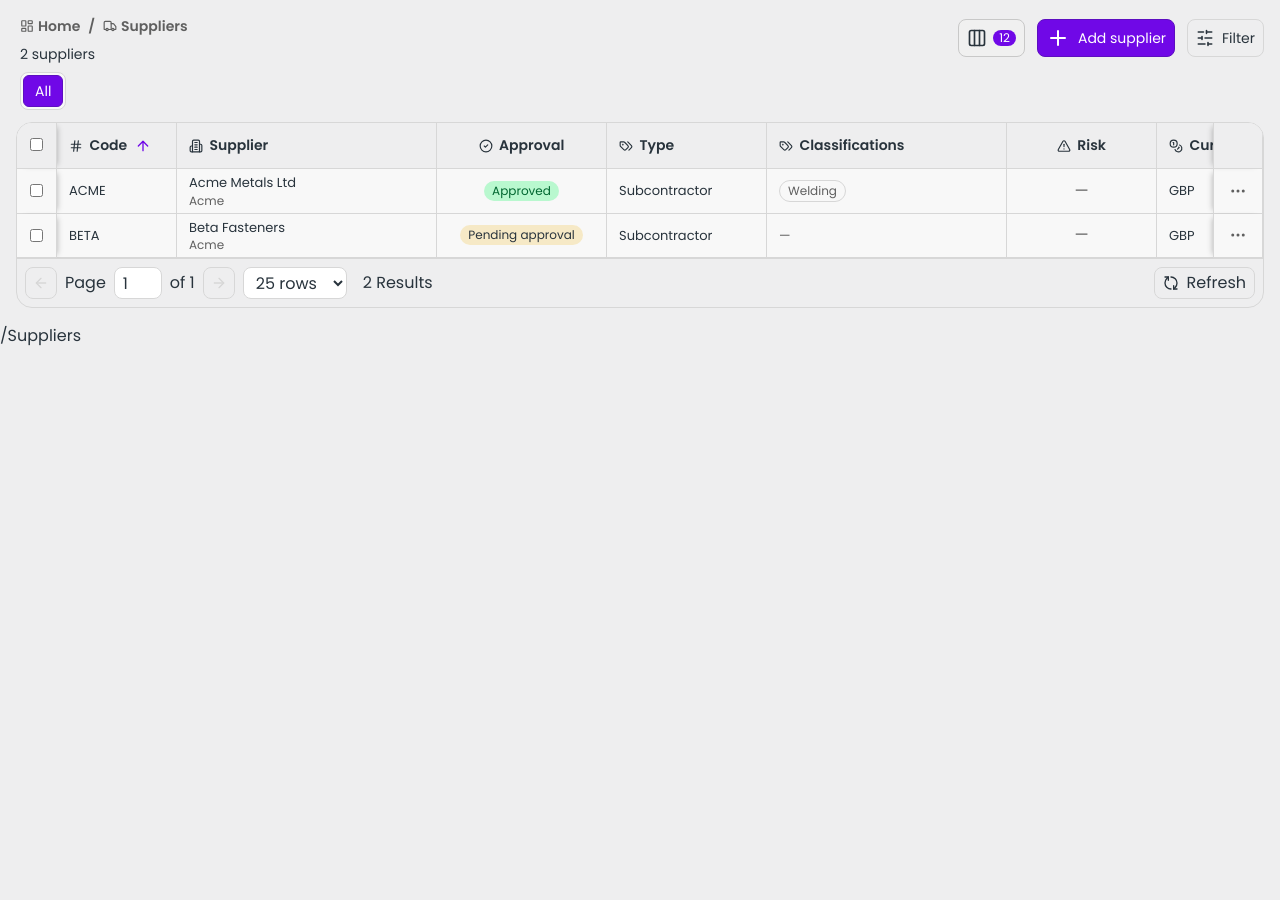
Test: supplier register › filters from the drawer, shows chips and clears them
Check: the element named "Suppliers" is shown, box [17,123,1263,258]
Click the button "Filter".
click(1226, 38)  # box [1187,19,1264,57]
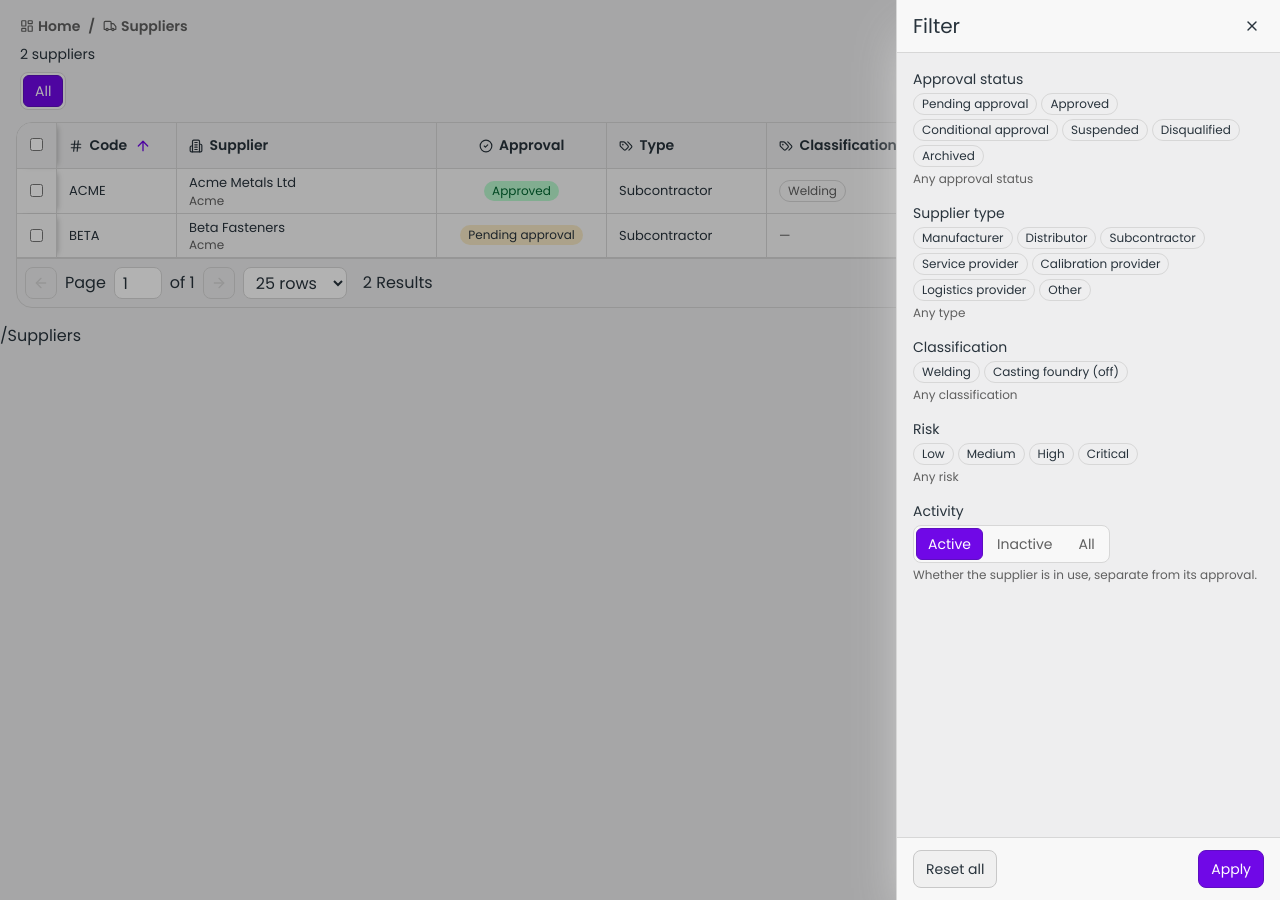
Click the 1st checkbox labelled "Approved".
click(1080, 104)  # box [1041,93,1118,115]
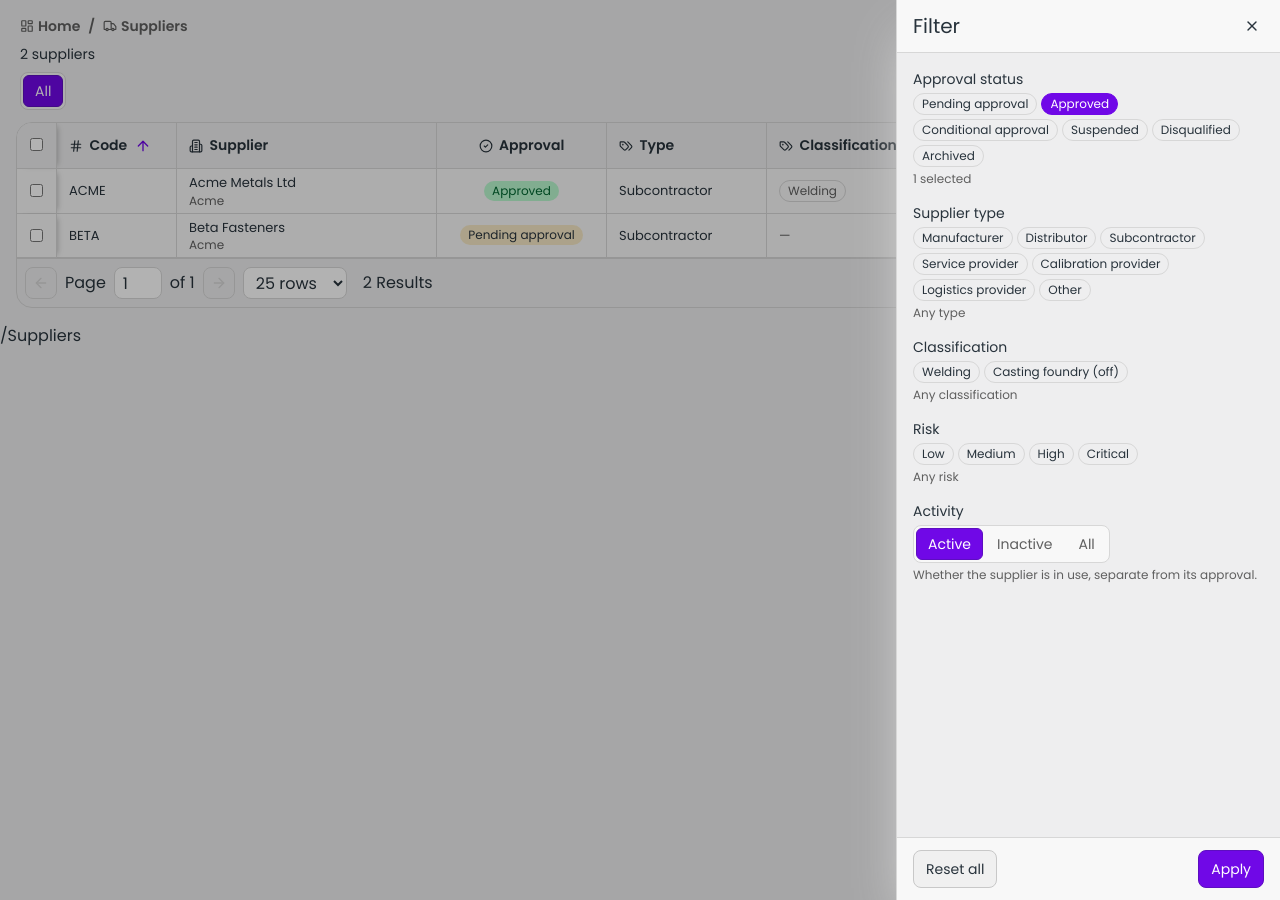
Click the 4th checkbox labelled "Welding".
click(946, 372)  # box [913,361,980,383]
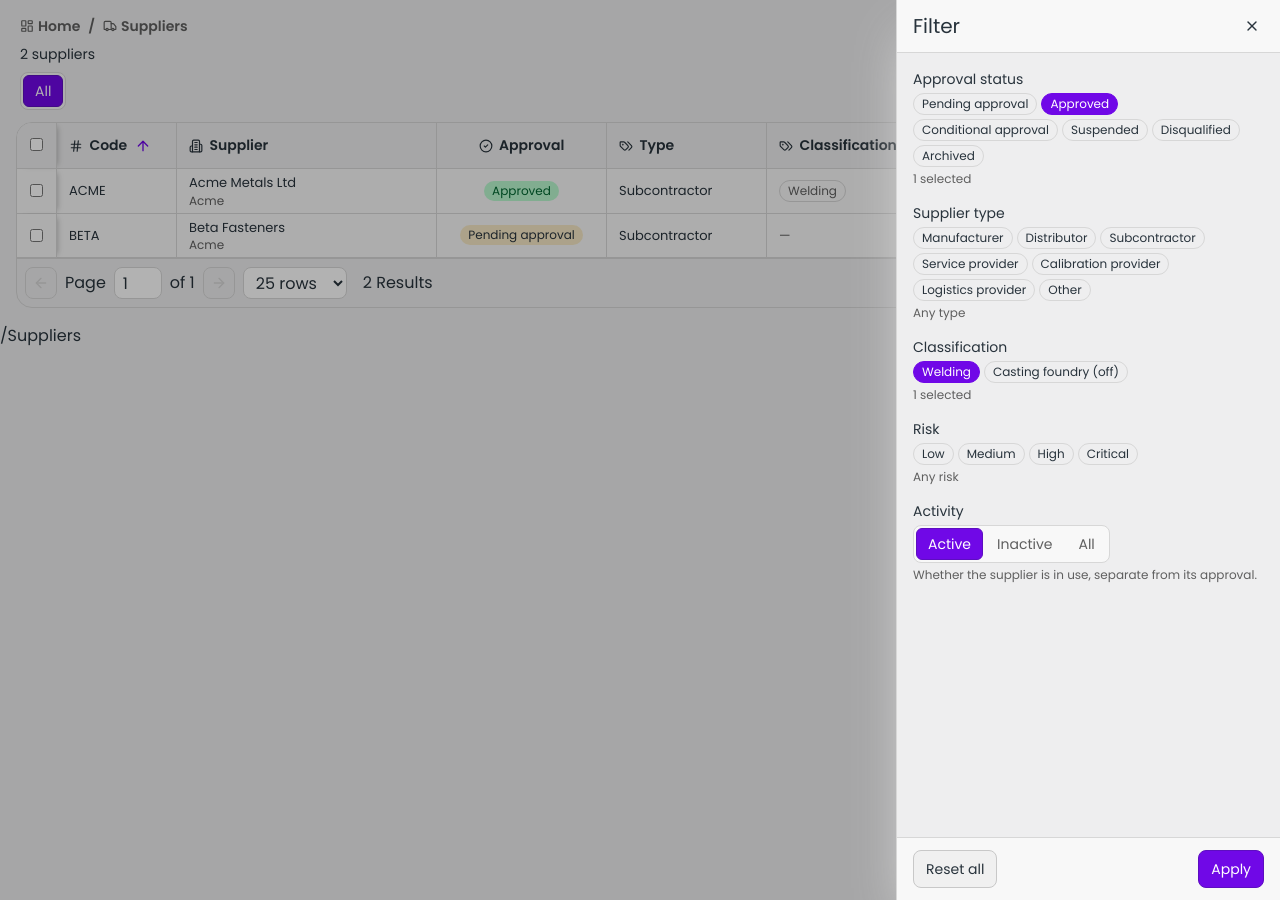
Click the radio button labelled "All".
click(1087, 544)  # box [1066,528,1107,560]
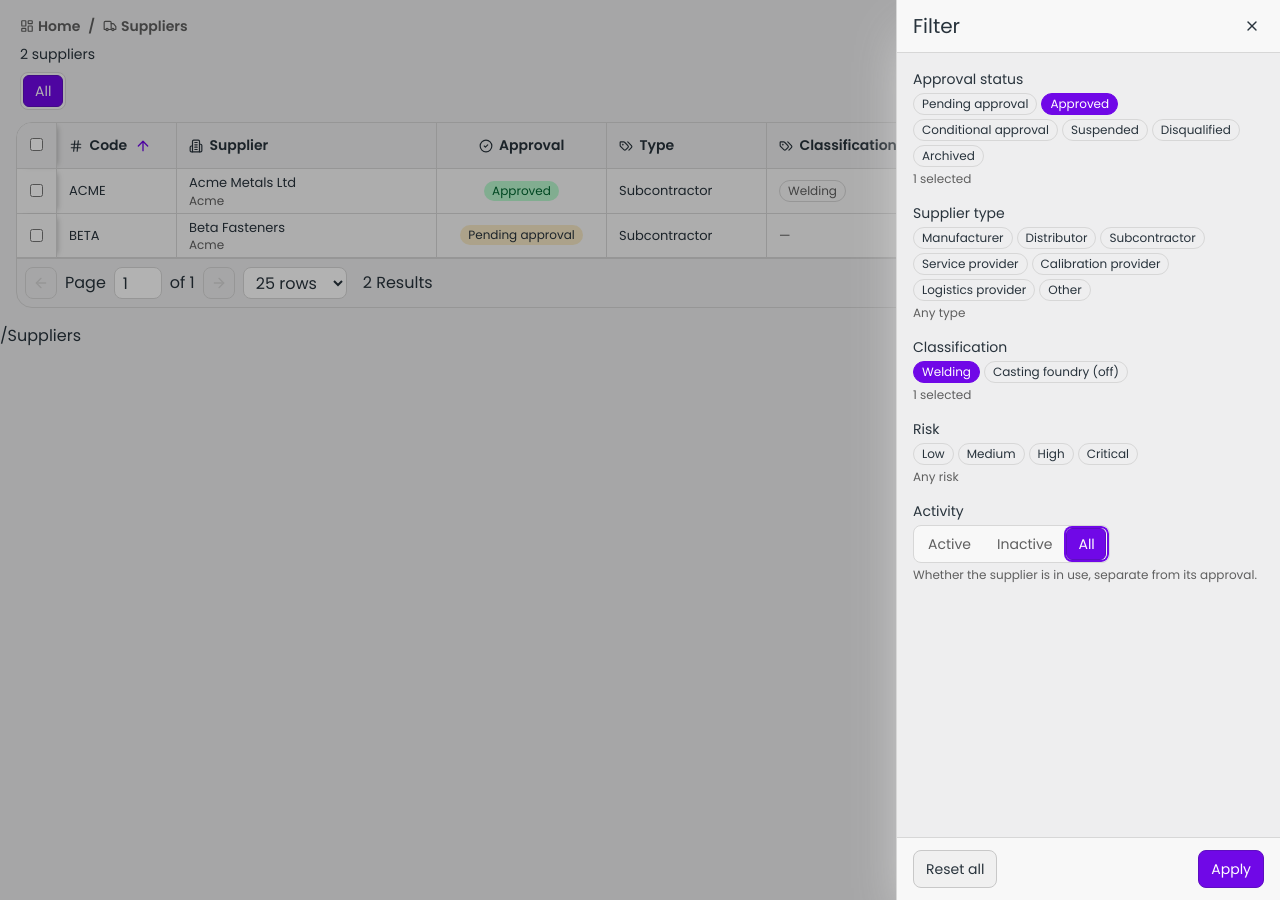
Click the button "Apply".
click(1231, 869)  # box [1198,850,1264,888]
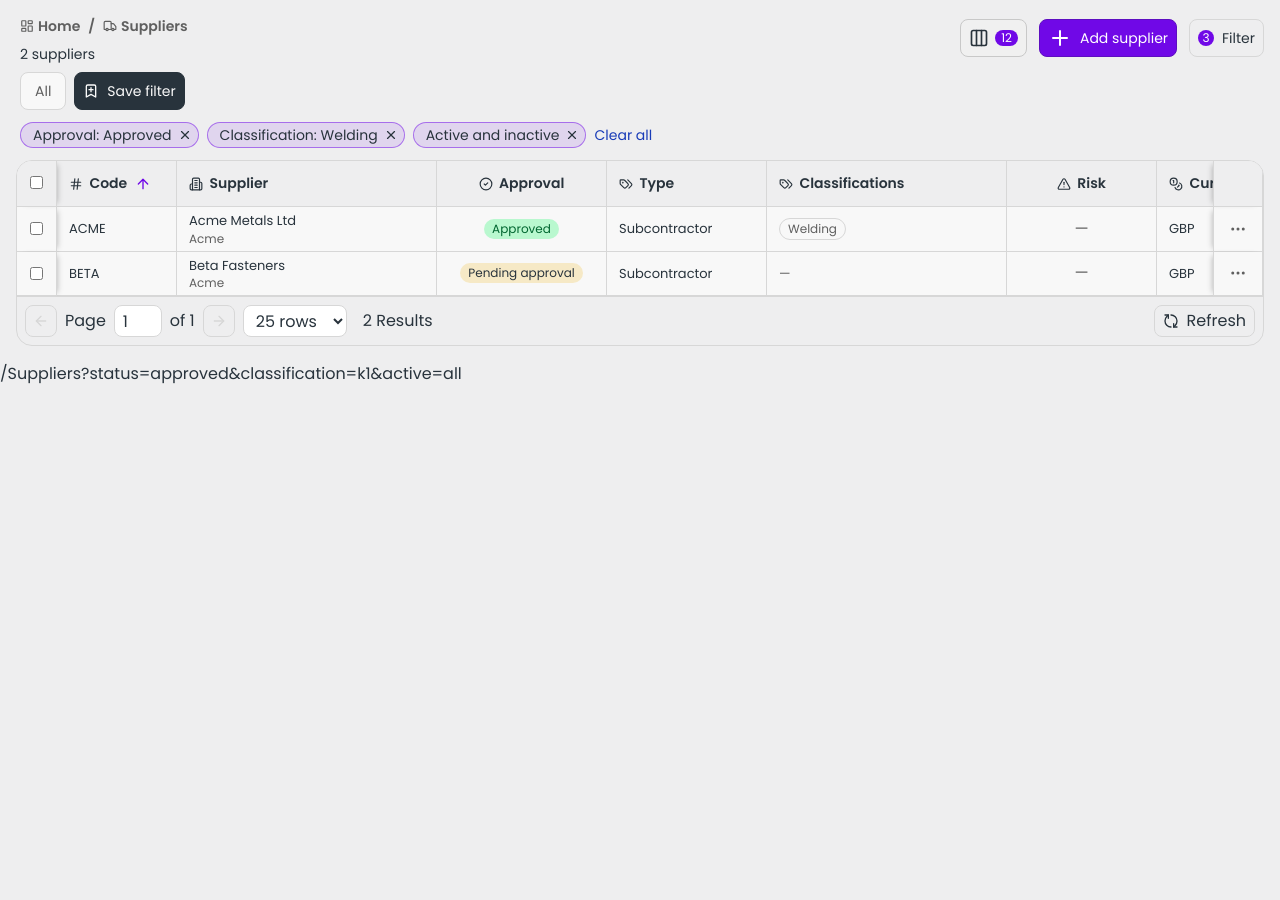
Check: the button named "Remove filter Approval: Approved" is shown, box [176,126,194,144]
Check: the button named "Remove filter Classification: Welding" is shown, box [382,126,400,144]
Click the button "Clear all".
click(623, 135)  # box [594,125,652,145]
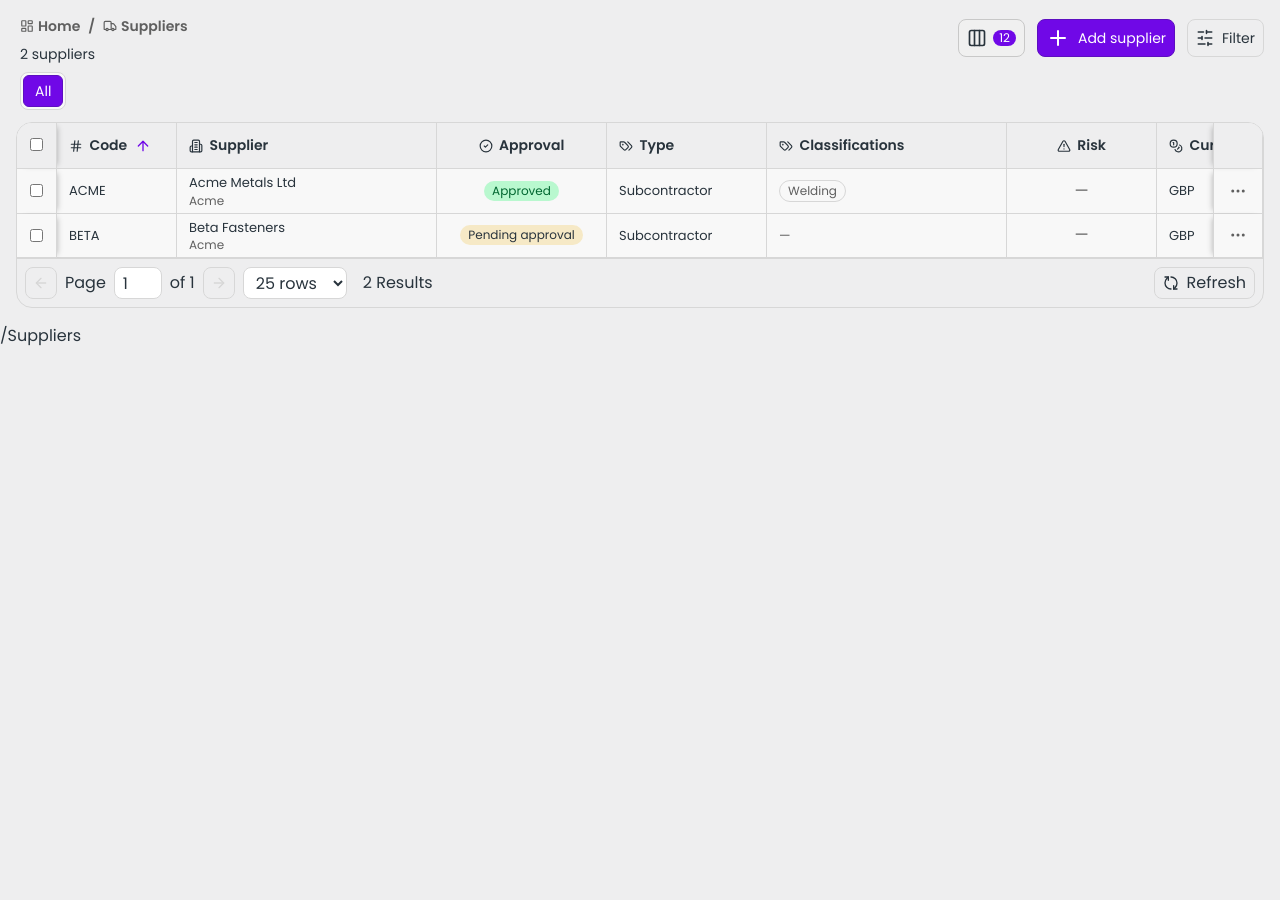
Check: the text with test id "where" reads "/Suppliers", box [0,324,81,347]
